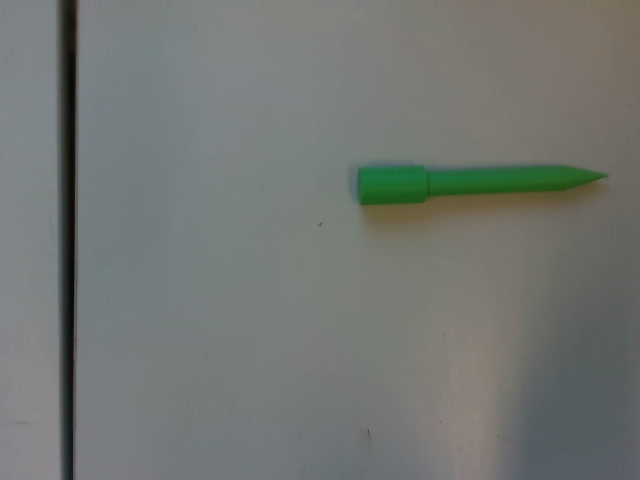Probe: (353, 156, 616, 216)
